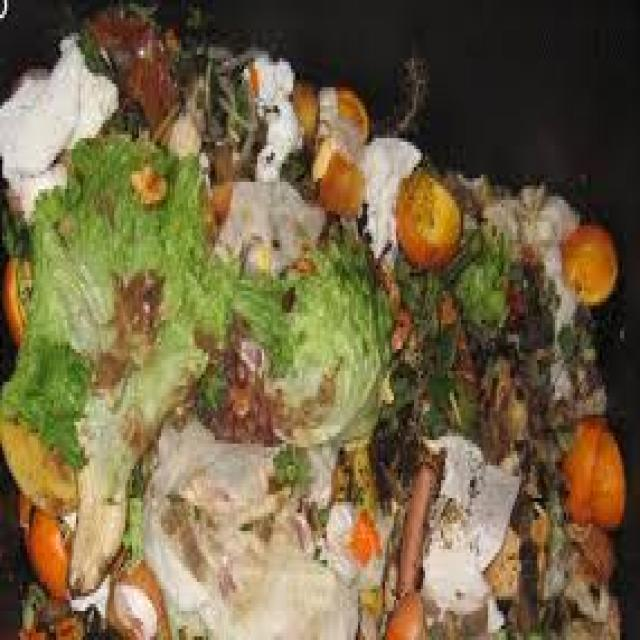food_waste: (23, 92, 603, 597)
